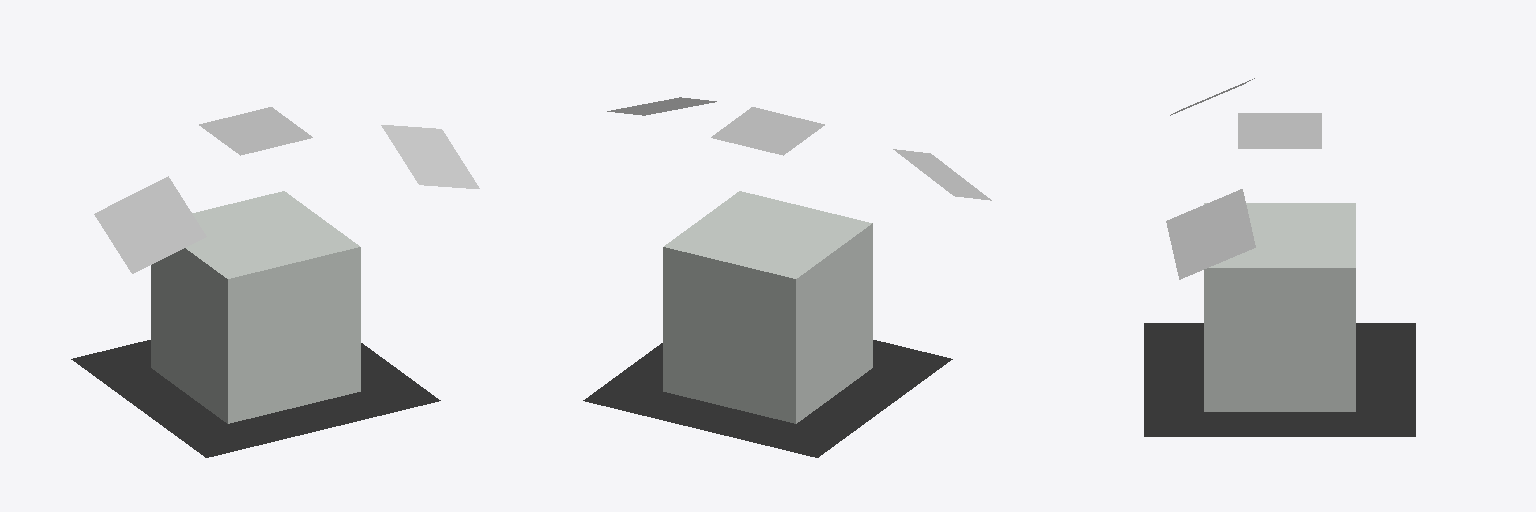
The picture shows the model from 3 angles: view 1: azimuth 30°, elevation 25°; view 2: azimuth 150°, elevation 25°; view 3: azimuth 270°, elevation 25°; orthographic projection.
Visible parts, largest first — view 1: Glass, Floor, Light1, Light2, Light0; view 2: Glass, Floor, Light0, Light1, Light2; view 3: Glass, Floor, Light2, Light0.
Boxes of the visible parts, x1=… form: Glass: x1=151, y1=191, x2=360, y2=423; Floor: x1=71, y1=340, x2=440, y2=457; Light1: x1=94, y1=176, x2=206, y2=273; Light2: x1=381, y1=125, x2=479, y2=188; Light0: x1=199, y1=107, x2=312, y2=155; Glass: x1=663, y1=191, x2=872, y2=423; Floor: x1=583, y1=340, x2=952, y2=457; Light0: x1=711, y1=107, x2=824, y2=155; Light1: x1=893, y1=149, x2=991, y2=200; Light2: x1=607, y1=97, x2=716, y2=115; Glass: x1=1204, y1=203, x2=1355, y2=411; Floor: x1=1144, y1=323, x2=1415, y2=436; Light2: x1=1166, y1=189, x2=1255, y2=279; Light0: x1=1238, y1=113, x2=1321, y2=148.
Size of the model in its own units: 23.73 by 16.25 by 16.